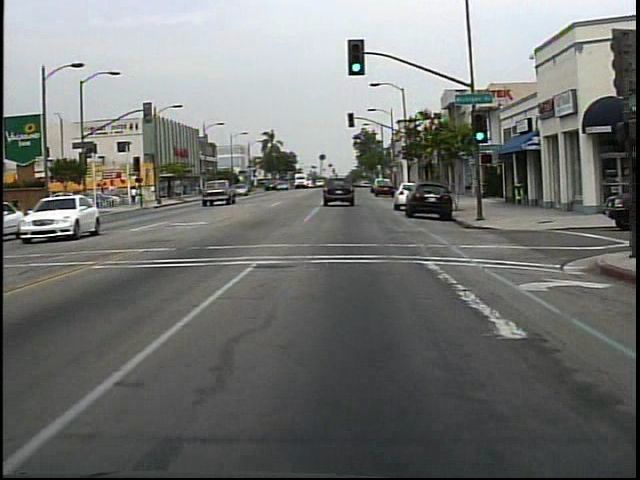person: (133, 184, 138, 206)
